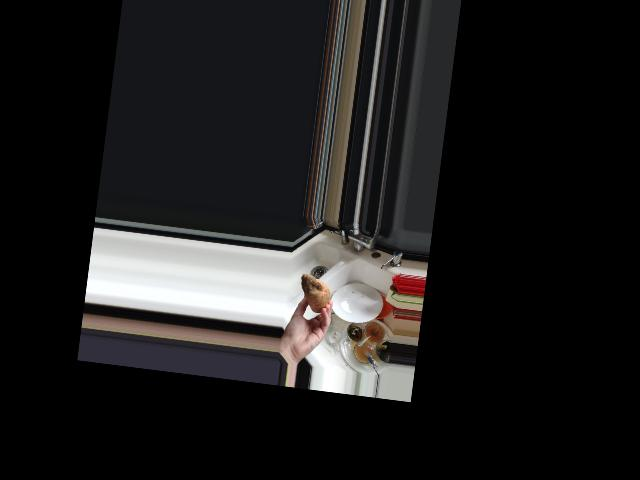sweet_potato: (294, 272, 333, 314)
